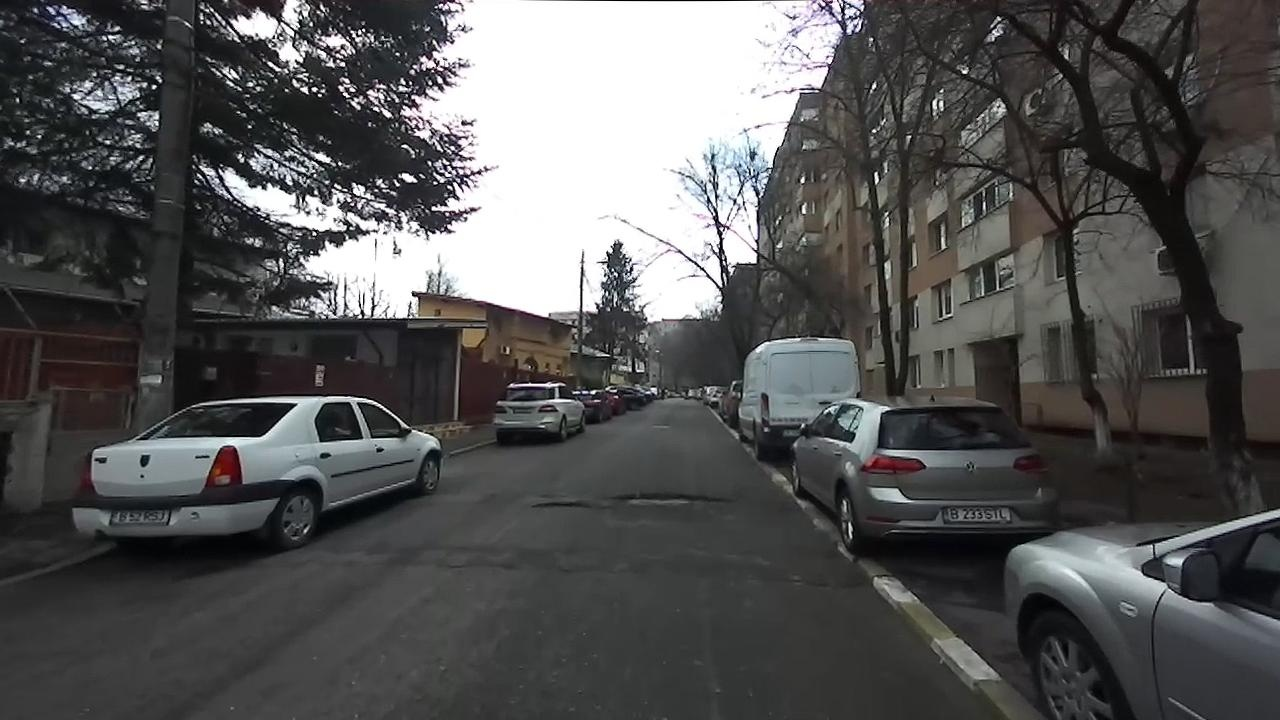pothole: (610, 489, 735, 509), (530, 497, 594, 510)
